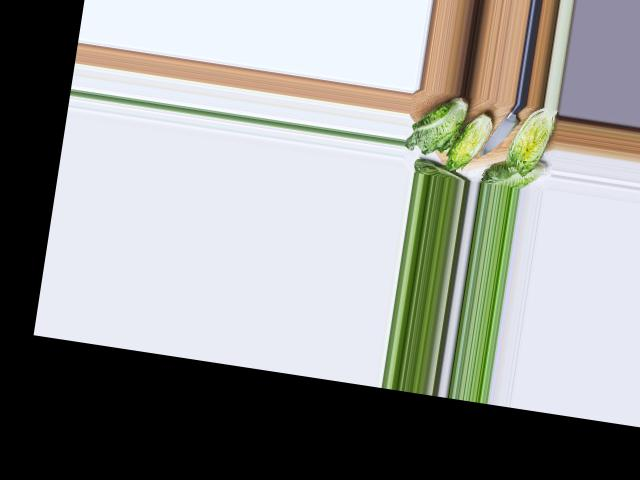lettuce: (482, 153, 546, 189)
